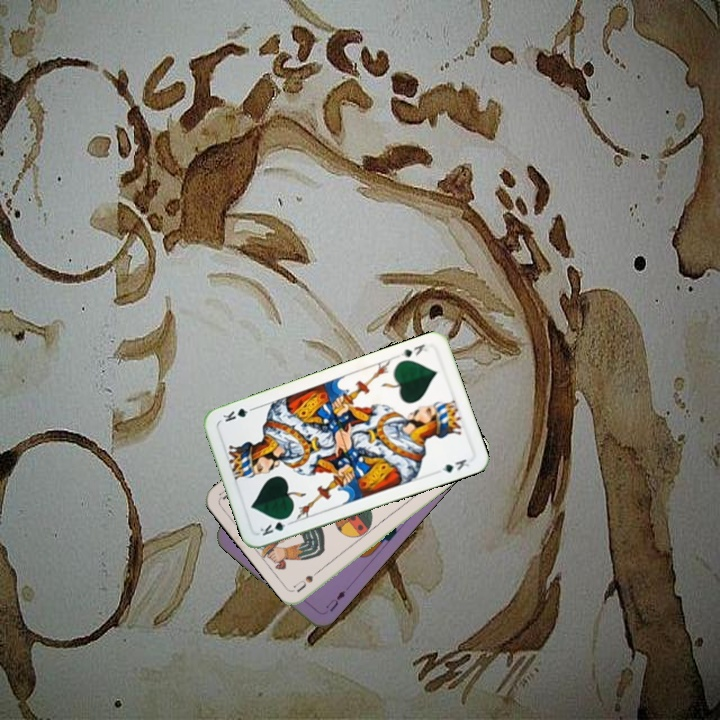EU: (321, 586, 348, 614)
GK: (256, 513, 295, 539), (393, 340, 430, 360)
SU: (290, 563, 326, 594)
